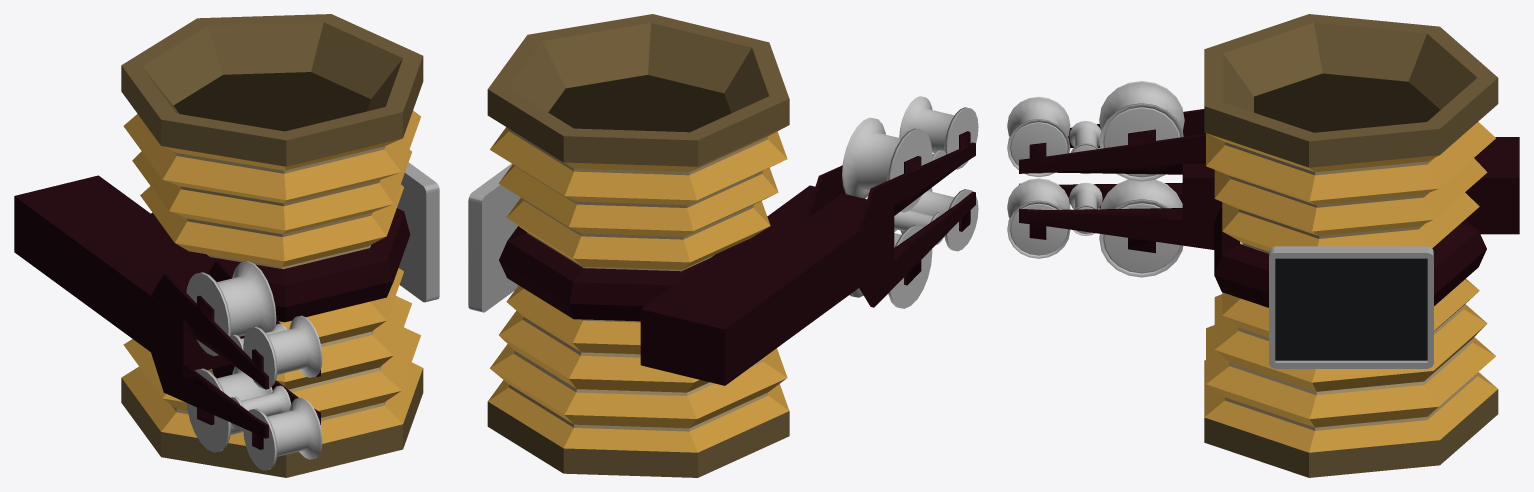
File: PlayerAnimation_Bottom_PickUp.fbx
3 views of the same model, side by side, from view 1: azimuth 30°, elevation 25°; view 2: azimuth 150°, elevation 25°; view 3: azimuth 270°, elevation 25° (orthographic).
Parts seen in each view (by area): view 1: Original; view 2: Original; view 3: Original.
Boxes of the visible parts, x1,y1,x2,y2 form: Original: (14, 14, 439, 477); Original: (468, 14, 978, 477); Original: (1007, 14, 1519, 477).
Bounding box in the file's own units: 226 × 240 × 331.
